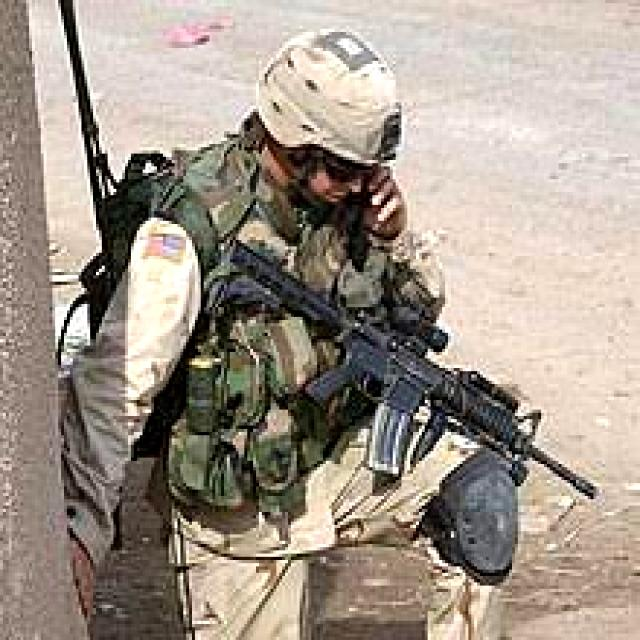m16: (179, 206, 624, 541)
